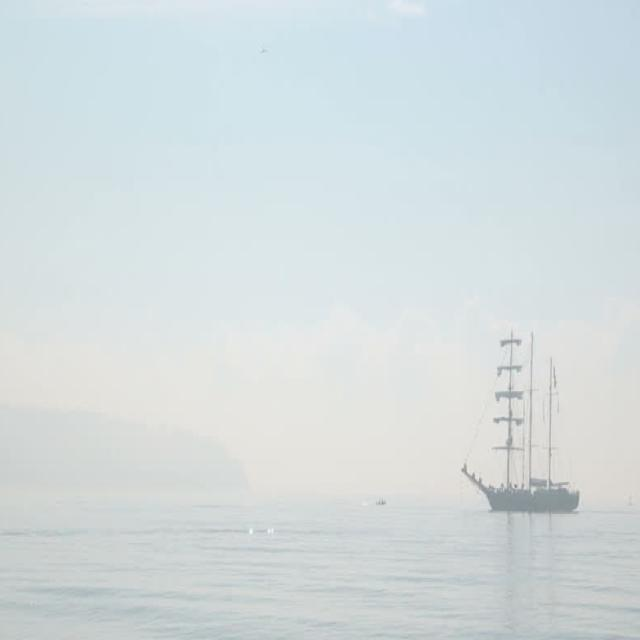fishing boat: (457, 319, 598, 518)
